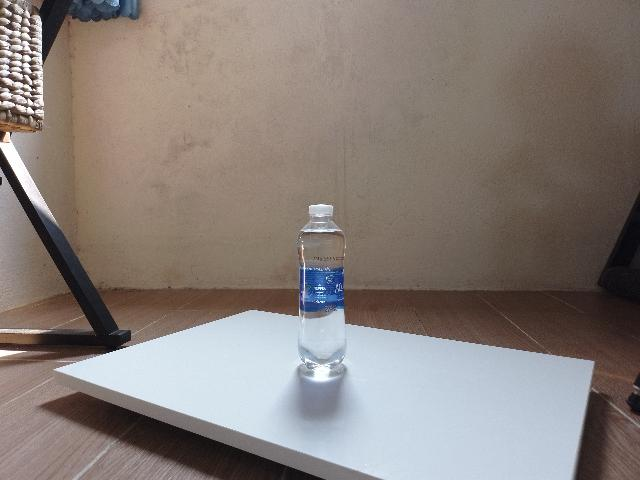aquafina: (297, 204, 347, 373)
